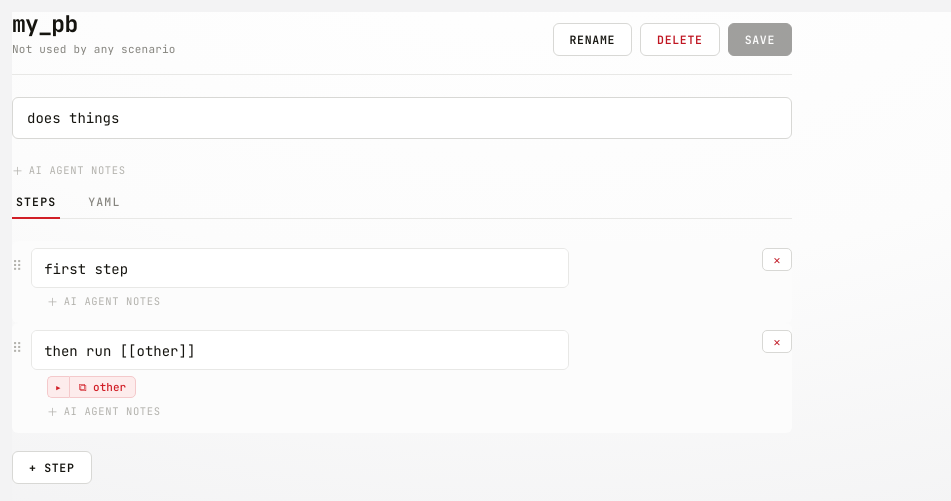
Scenario: PlaybookEditor › disables Save until there is a change
Check: the button "Save" is disabled, box [728,23,792,56]
Type "!" into the field showing "does things".
click(402, 118); type("!")  # box [12,97,792,139]
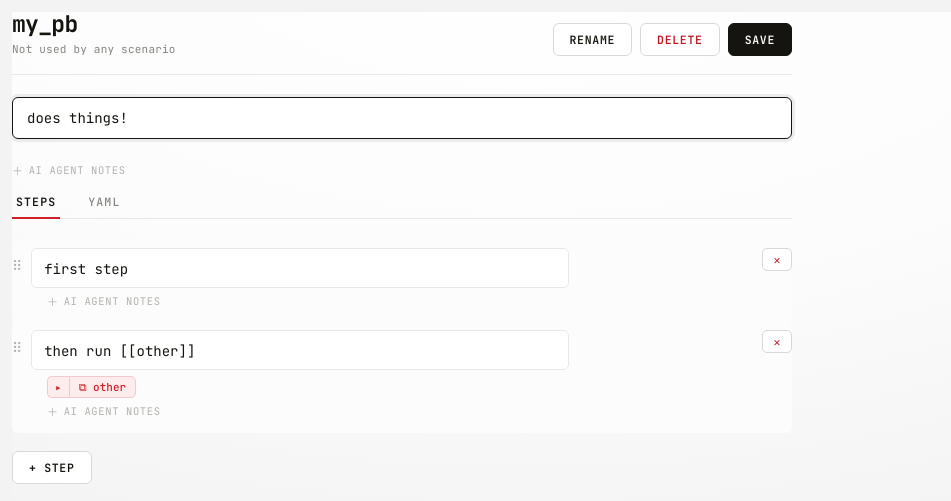
Check: the button "Save" is enabled, box [728,23,792,56]
